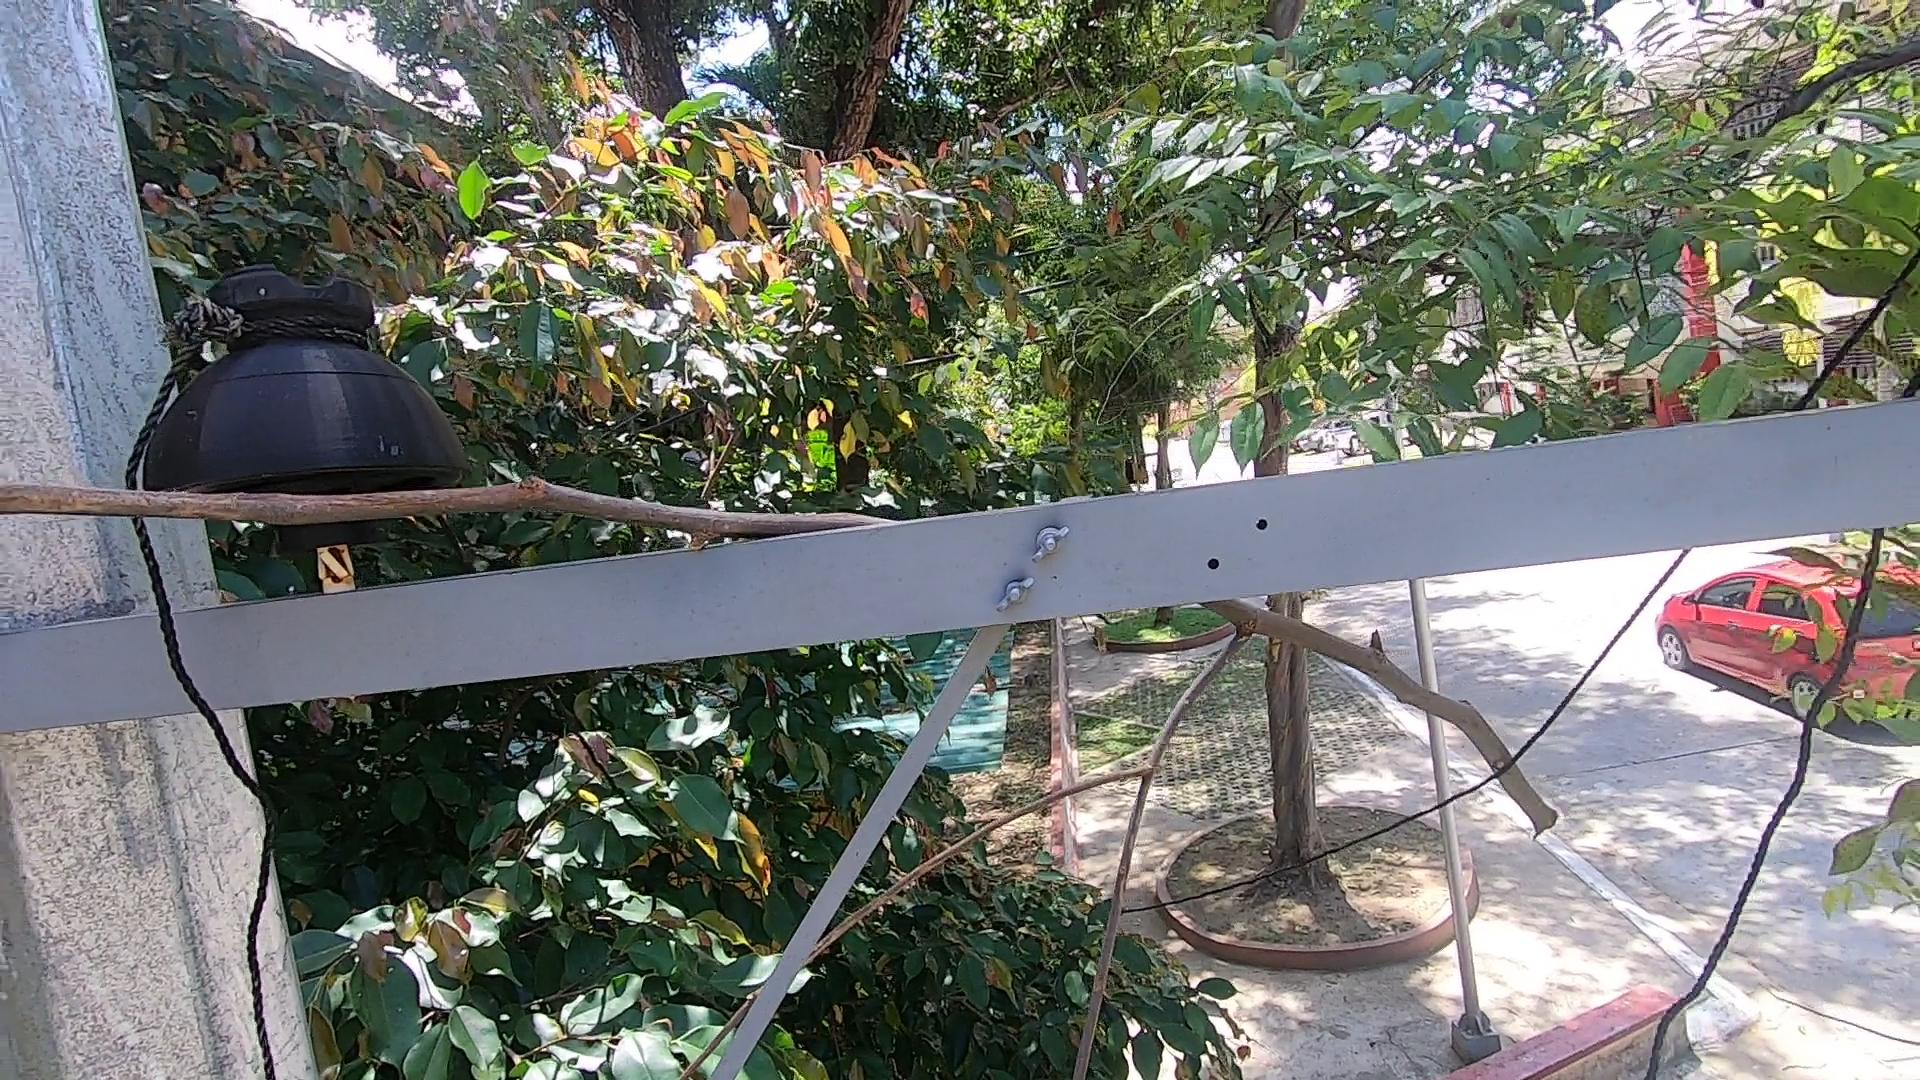tree branch: (671, 647, 1563, 1071), (8, 458, 887, 531)
